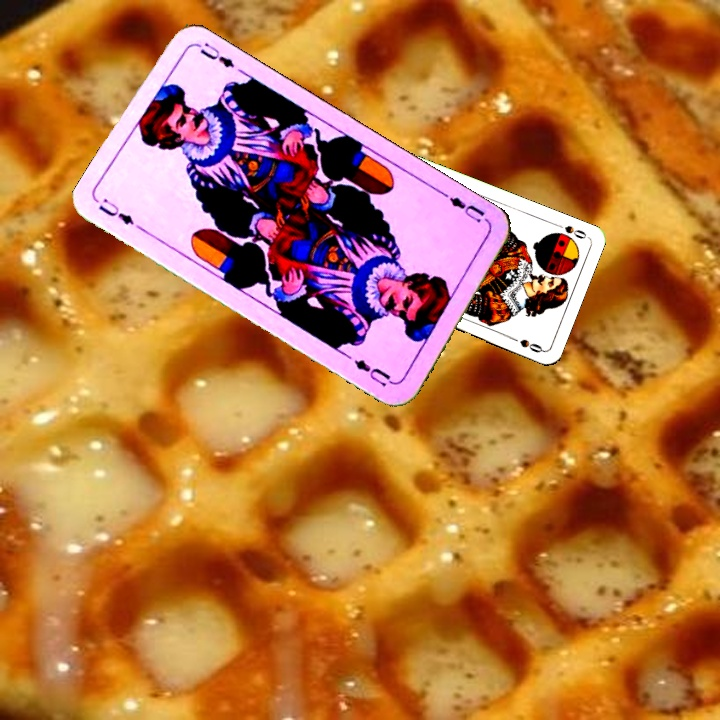EU: (94, 194, 137, 228), (445, 192, 487, 226)
SO: (551, 219, 590, 241)
